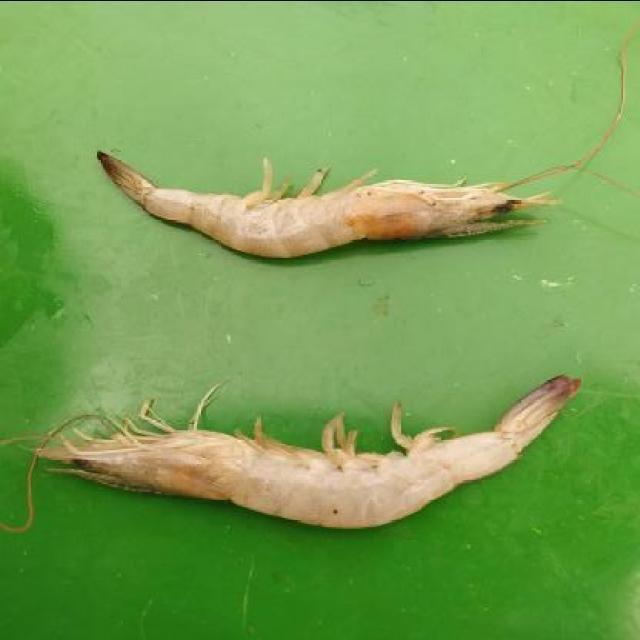shrimp: (12, 365, 593, 532), (78, 135, 561, 265)
